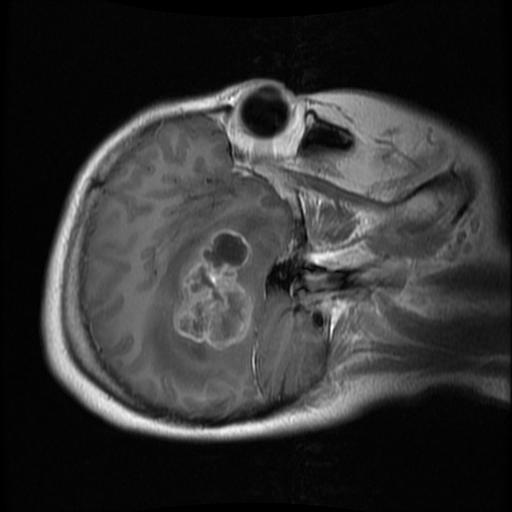glioma: (172, 227, 252, 352)
